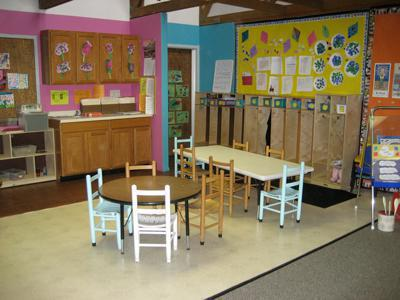Otro Obstaculo: (369, 100, 399, 228), (372, 196, 399, 237)
